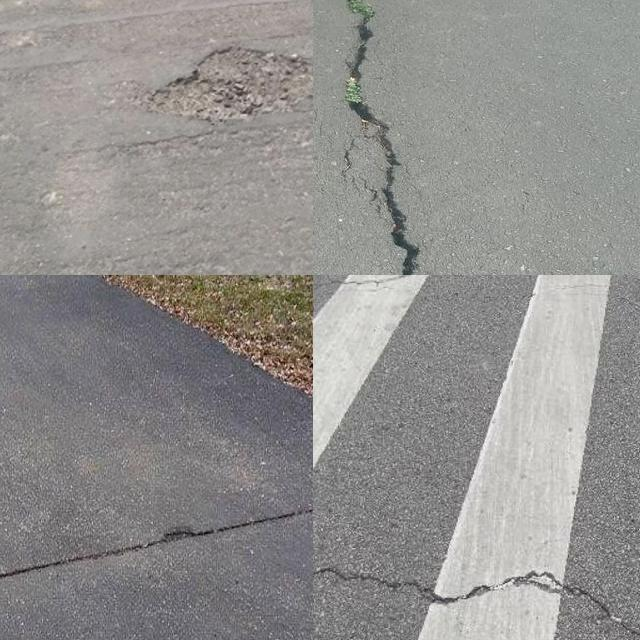Lubang: (153, 56, 313, 123)
Melintang: (0, 486, 313, 596), (313, 557, 640, 640)
Memanjang: (330, 0, 421, 275)
